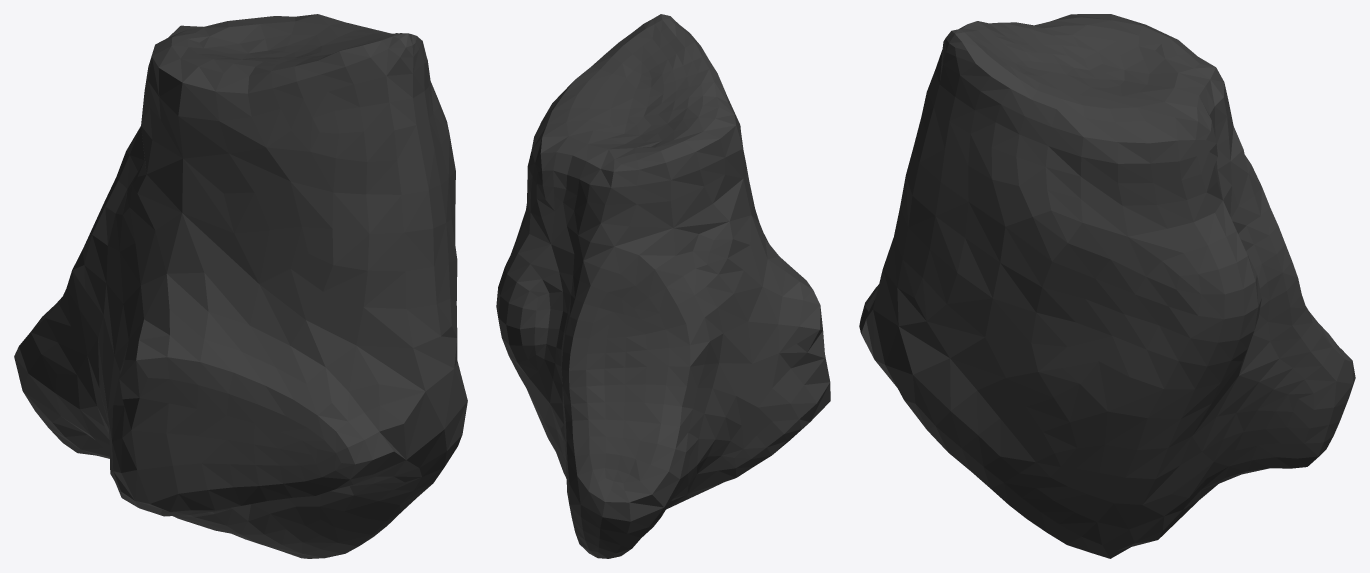
File: Ulnar_carpal.glb
3 views of the same model, side by side, from view 1: azimuth 30°, elevation 25°; view 2: azimuth 150°, elevation 25°; view 3: azimuth 270°, elevation 25° (orthographic). The views are drawn at different scales.
Parts seen in each view (by area): view 1: Ulnar_carpal; view 2: Ulnar_carpal; view 3: Ulnar_carpal.
Part boxes in pixels (x1,y1,x2,y2): Ulnar_carpal: (14, 14, 467, 558); Ulnar_carpal: (496, 14, 830, 558); Ulnar_carpal: (859, 14, 1355, 558).
Size of the model in its own units: 23.36 by 38.78 by 32.95.
Materials: 1 (1 with a texture image).
